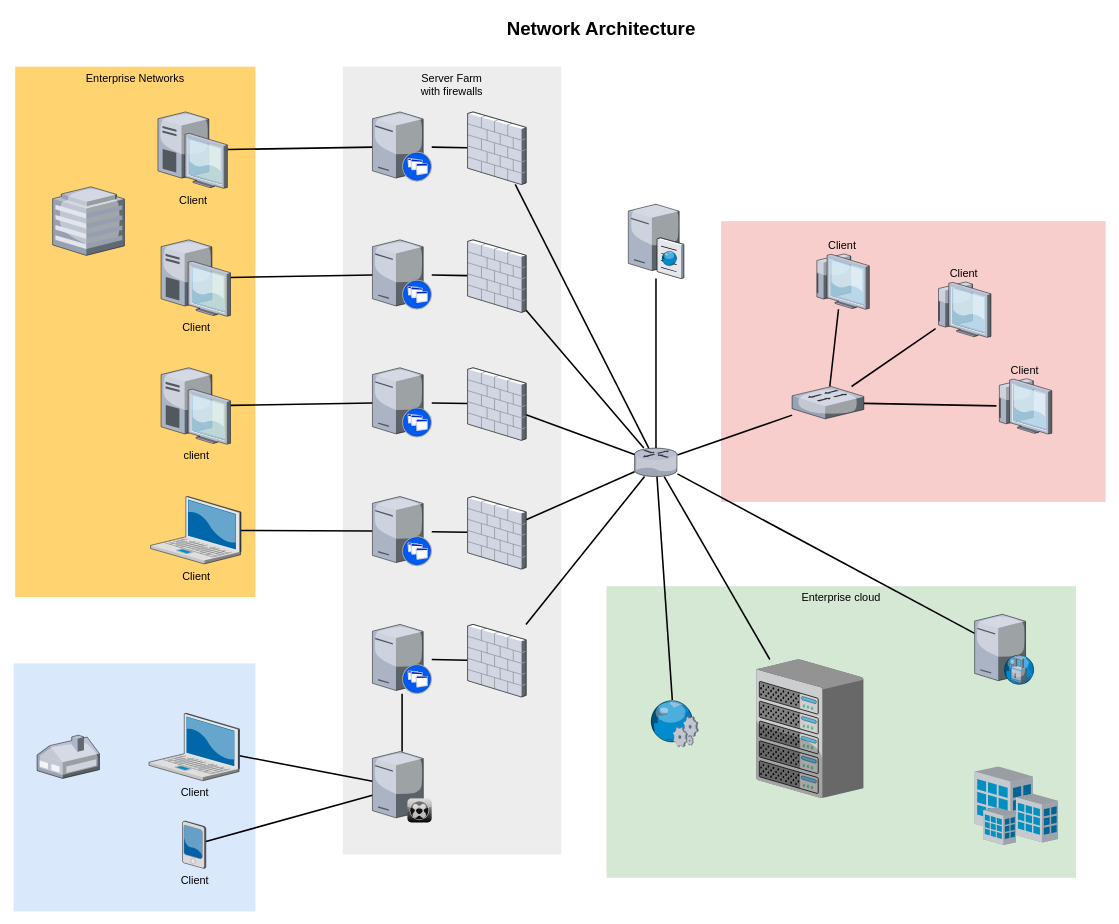
Some shapes in this 1119 by 924 pixel diagram are drawn without their labels. The shapes that lost their labels are listed below. From the top down, each one's box as (x1, y1, x2, y2) in pixels, then its label:
(628, 202, 683, 278): Web Server
(721, 221, 1105, 502): Outside Networks
(974, 614, 1034, 684): Secure Server
(649, 700, 698, 746): Web service
(756, 659, 863, 798): DNS
(13, 663, 255, 911): Residential Private Networks
